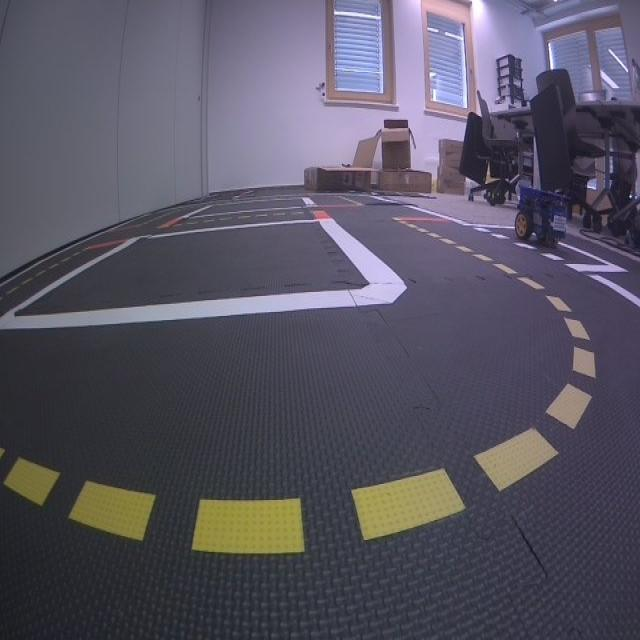bot: (511, 184, 571, 250)
park: (462, 224, 628, 273)
